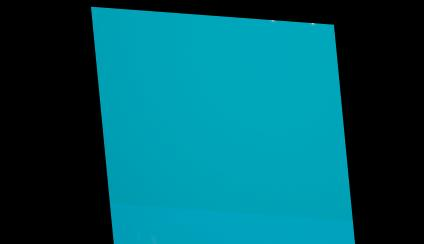boat: (267, 16, 320, 45)
drone: (274, 16, 310, 28)
